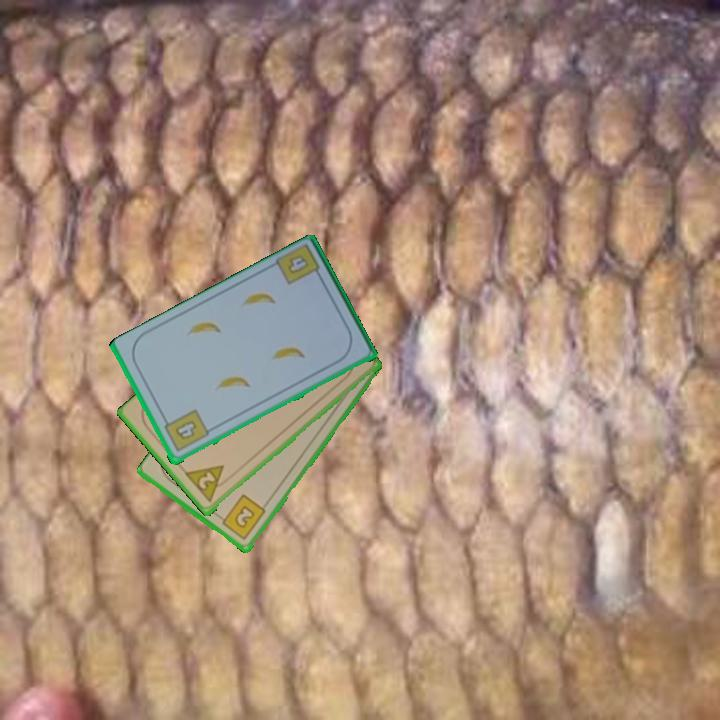2b: (215, 491, 269, 543)
2p: (182, 461, 234, 507)
4b: (160, 406, 211, 455), (272, 242, 326, 288)
